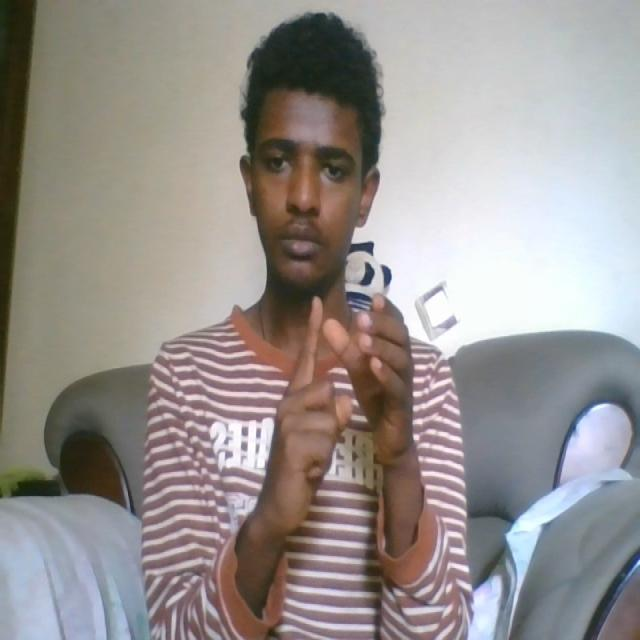melqeq: (263, 290, 417, 535)
